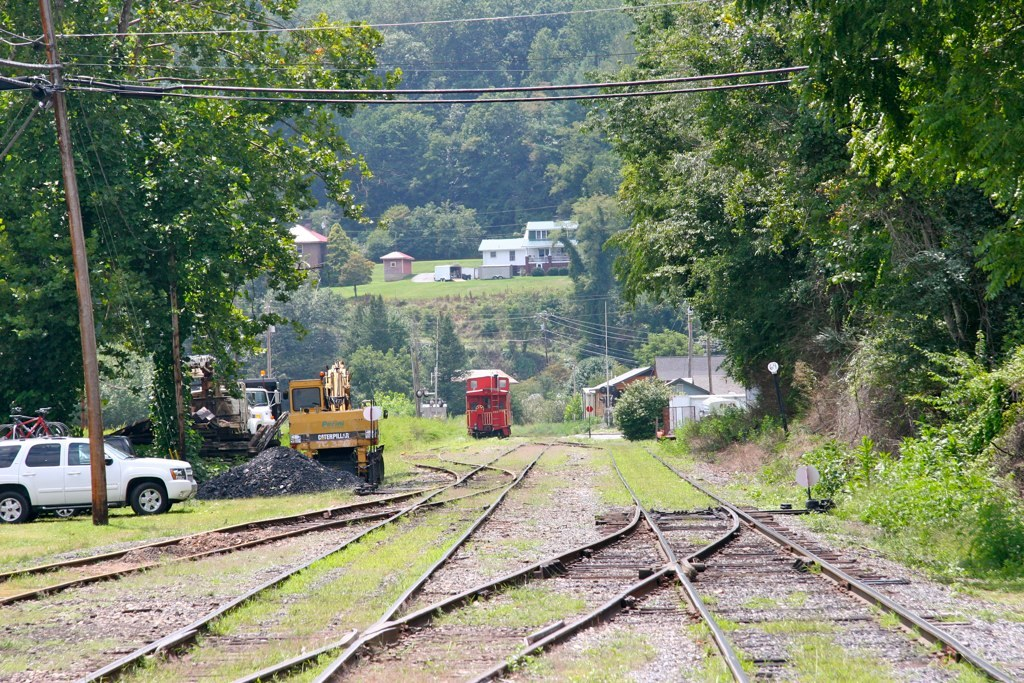Car: (0, 436, 197, 525), (49, 450, 88, 518), (78, 434, 131, 458)
